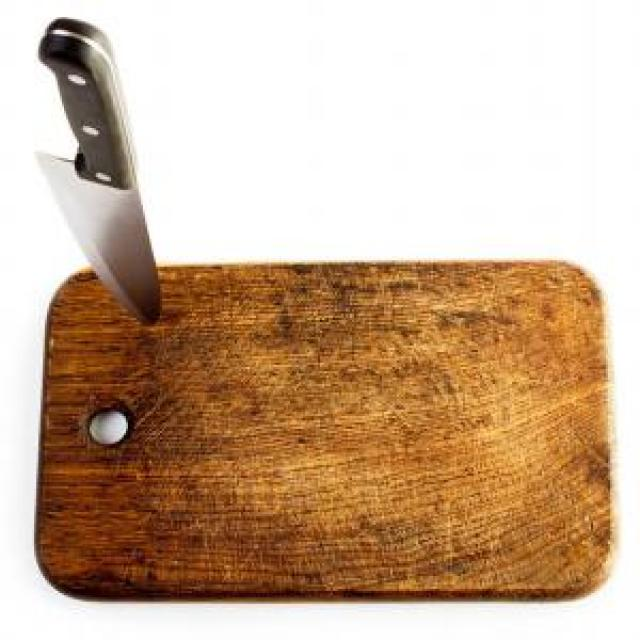knife: (38, 19, 165, 332)
